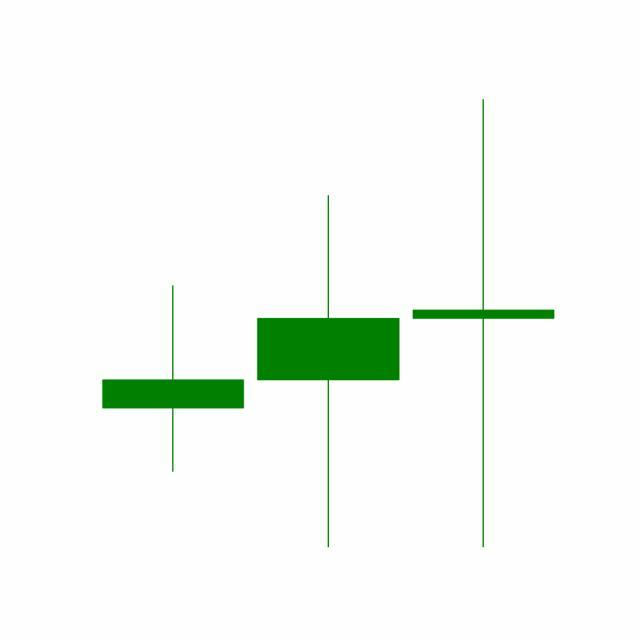Spinning Top: (250, 192, 407, 552)
